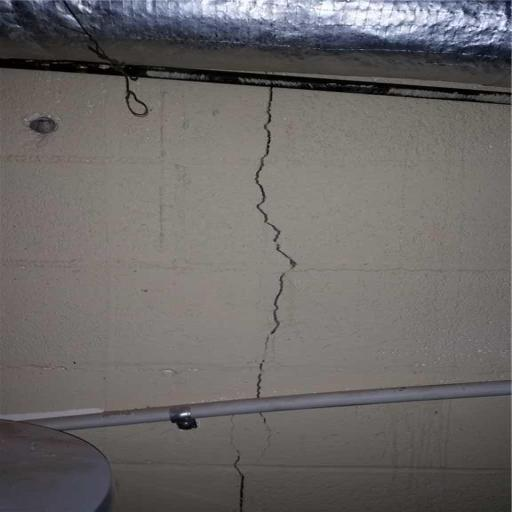spalling: (244, 96, 303, 391), (213, 443, 254, 504)
